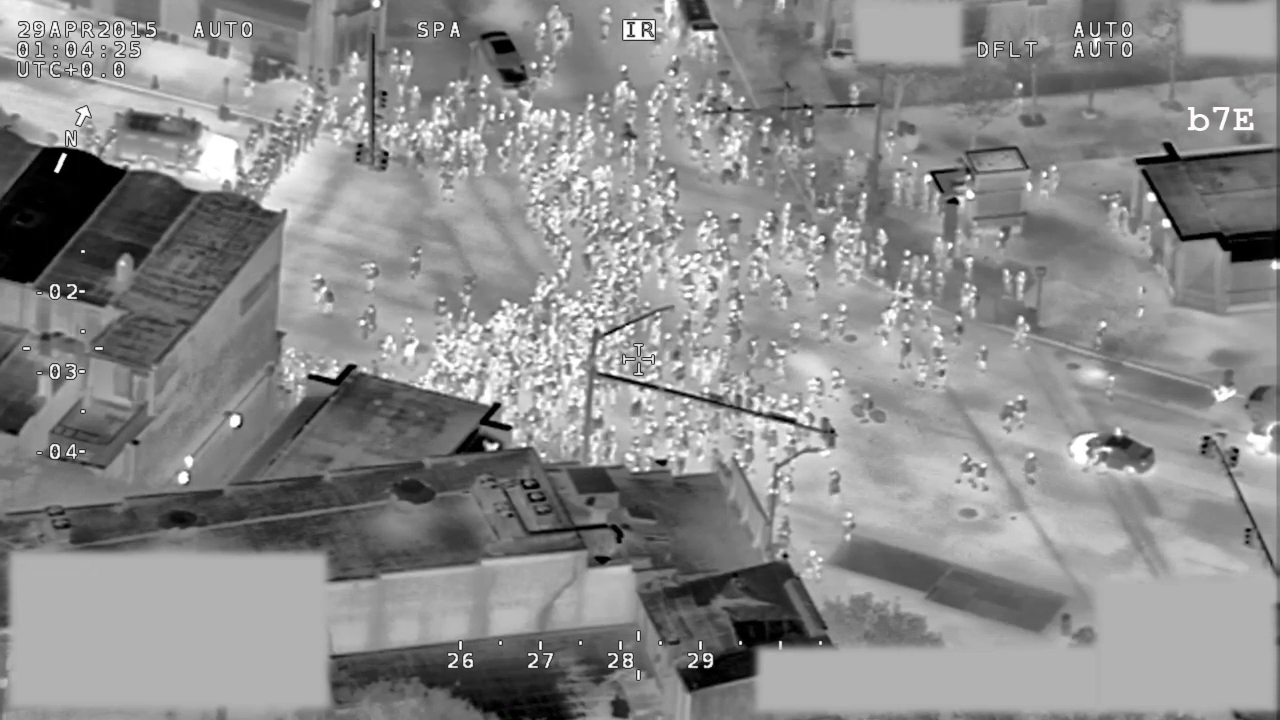vehicle: (108, 108, 242, 194), (1066, 425, 1157, 477), (473, 28, 531, 92)
